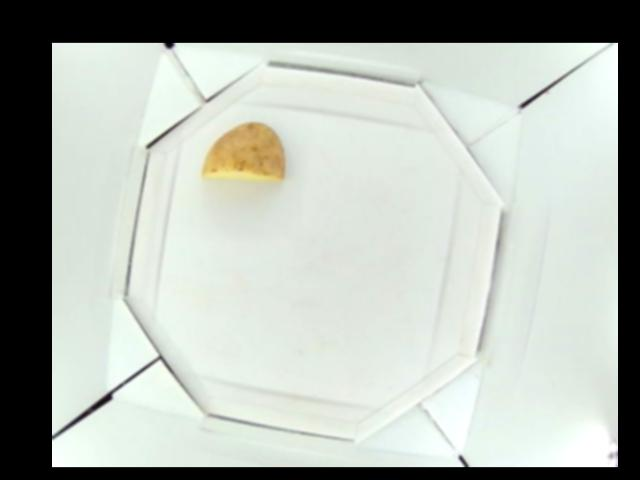Potato: (200, 122, 284, 183)
